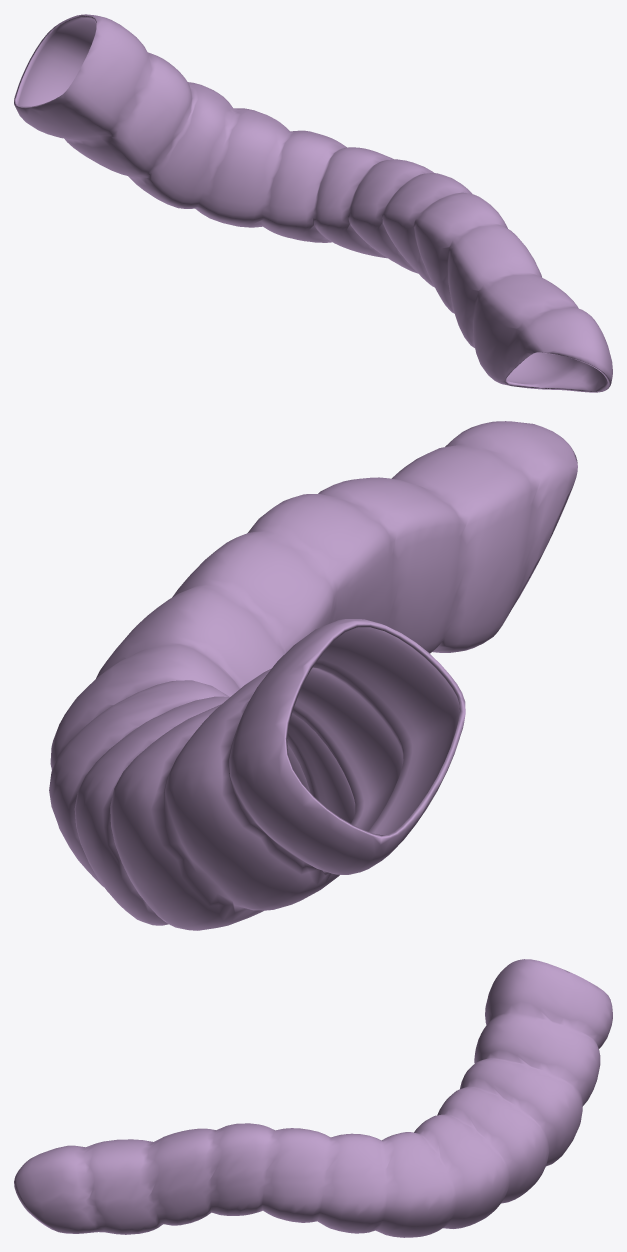
The picture shows the model from 3 angles, top to bottom: view 1: azimuth 30°, elevation 25°; view 2: azimuth 150°, elevation 25°; view 3: azimuth 270°, elevation 25°; orthographic projection. The views are drawn at different scales.
Visible parts, largest first — view 1: 降结肠; view 2: 降结肠; view 3: 降结肠.
Boxes of the visible parts, bbox=[...] form: 降结肠: bbox=[14, 14, 612, 392]; 降结肠: bbox=[49, 421, 577, 930]; 降结肠: bbox=[14, 959, 612, 1237].
Bounding box in the file's own units: 0.1953 × 0.1381 × 0.3878.
